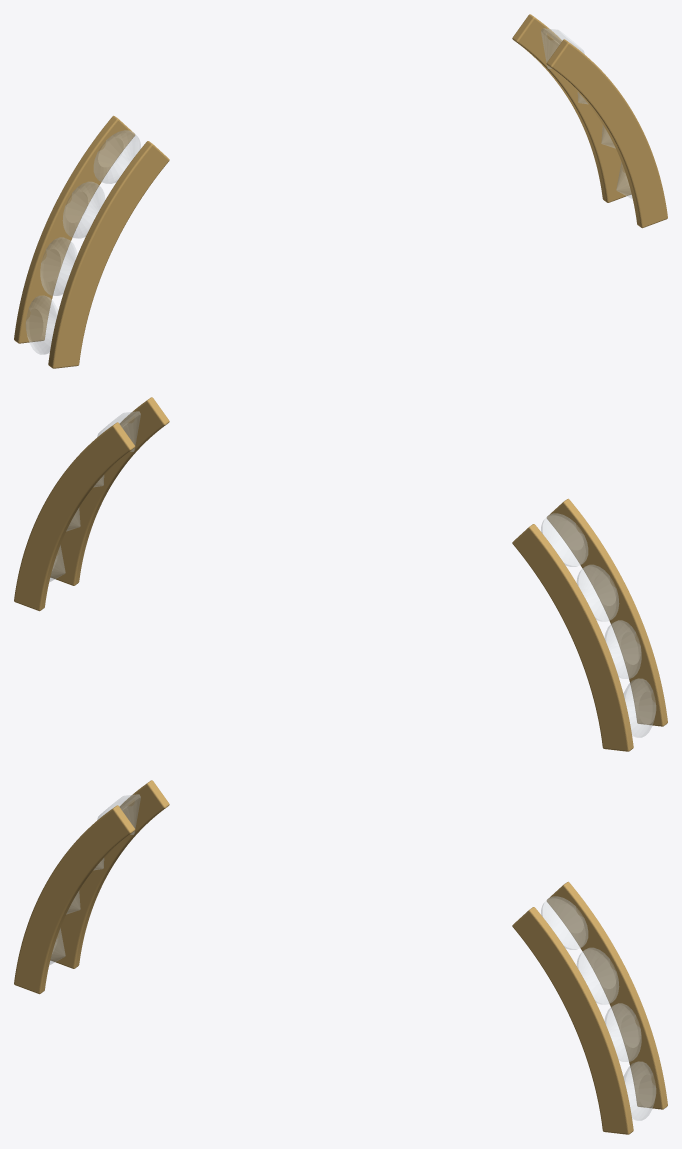
Rendered from accents-channel-head.glb.
3 views of the same model, one above another, from view 1: azimuth 30°, elevation 25°; view 2: azimuth 150°, elevation 25°; view 3: azimuth 330°, elevation 25° (orthographic).
Visible parts, largest first — view 1: Channel wall, Channel wall.001, Channel wall.002, Channel wall.003, Gem, Gem.001, Gem.002, Gem.003, Gem.004; view 2: Channel wall.001, Channel wall, Channel wall.003, Channel wall.002, Gem, Gem.001, Gem.002, Gem.003, Gem.004; view 3: Channel wall.002, Channel wall.003, Channel wall, Channel wall.001, Gem.004, Gem.005, Gem.006, Gem.007, Gem.
Part boxes in pixels (x1=…): Channel wall: x1=48, y1=141, x2=169, y2=368; Channel wall.001: x1=14, y1=115, x2=134, y2=343; Channel wall.002: x1=546, y1=39, x2=667, y2=228; Channel wall.003: x1=512, y1=14, x2=631, y2=202; Gem: x1=94, y1=130, x2=140, y2=183; Gem.001: x1=63, y1=182, x2=104, y2=238; Gem.002: x1=40, y1=237, x2=77, y2=295; Gem.003: x1=26, y1=295, x2=58, y2=354; Gem.004: x1=541, y1=28, x2=584, y2=68; Channel wall.001: x1=512, y1=524, x2=633, y2=751; Channel wall: x1=547, y1=498, x2=667, y2=726; Channel wall.003: x1=14, y1=422, x2=135, y2=611; Channel wall.002: x1=50, y1=397, x2=169, y2=585; Gem: x1=541, y1=513, x2=587, y2=566; Gem.001: x1=577, y1=565, x2=618, y2=621; Gem.002: x1=604, y1=620, x2=641, y2=678; Gem.003: x1=623, y1=678, x2=655, y2=737; Gem.004: x1=97, y1=411, x2=140, y2=451; Channel wall.002: x1=512, y1=907, x2=633, y2=1134; Channel wall.003: x1=547, y1=881, x2=667, y2=1109; Channel wall: x1=14, y1=805, x2=135, y2=994; Channel wall.001: x1=50, y1=780, x2=169, y2=968; Gem.004: x1=541, y1=896, x2=587, y2=949; Gem.005: x1=577, y1=948, x2=618, y2=1004; Gem.006: x1=604, y1=1003, x2=641, y2=1061; Gem.007: x1=623, y1=1061, x2=655, y2=1120; Gem: x1=97, y1=794, x2=140, y2=834.
Bounding box in the file's own units: 19.73 × 6.21 × 2.19.
